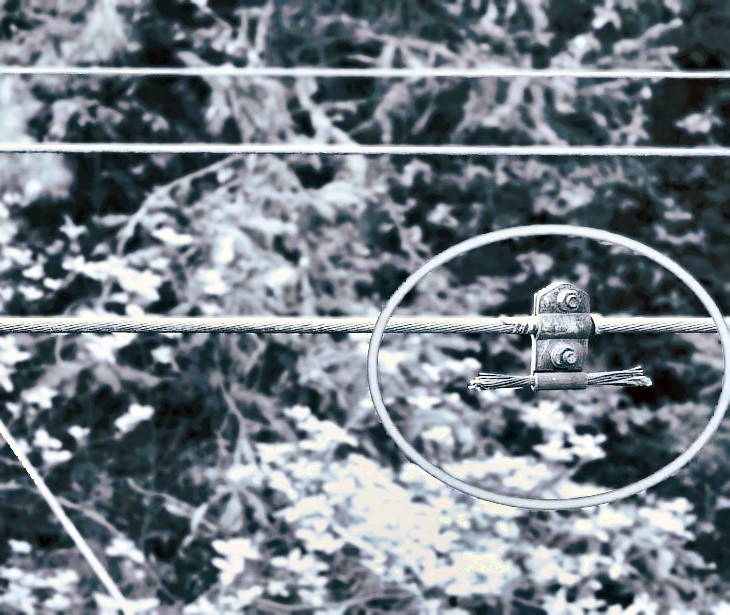Damage of shockproof hammer: (457, 273, 664, 404)
